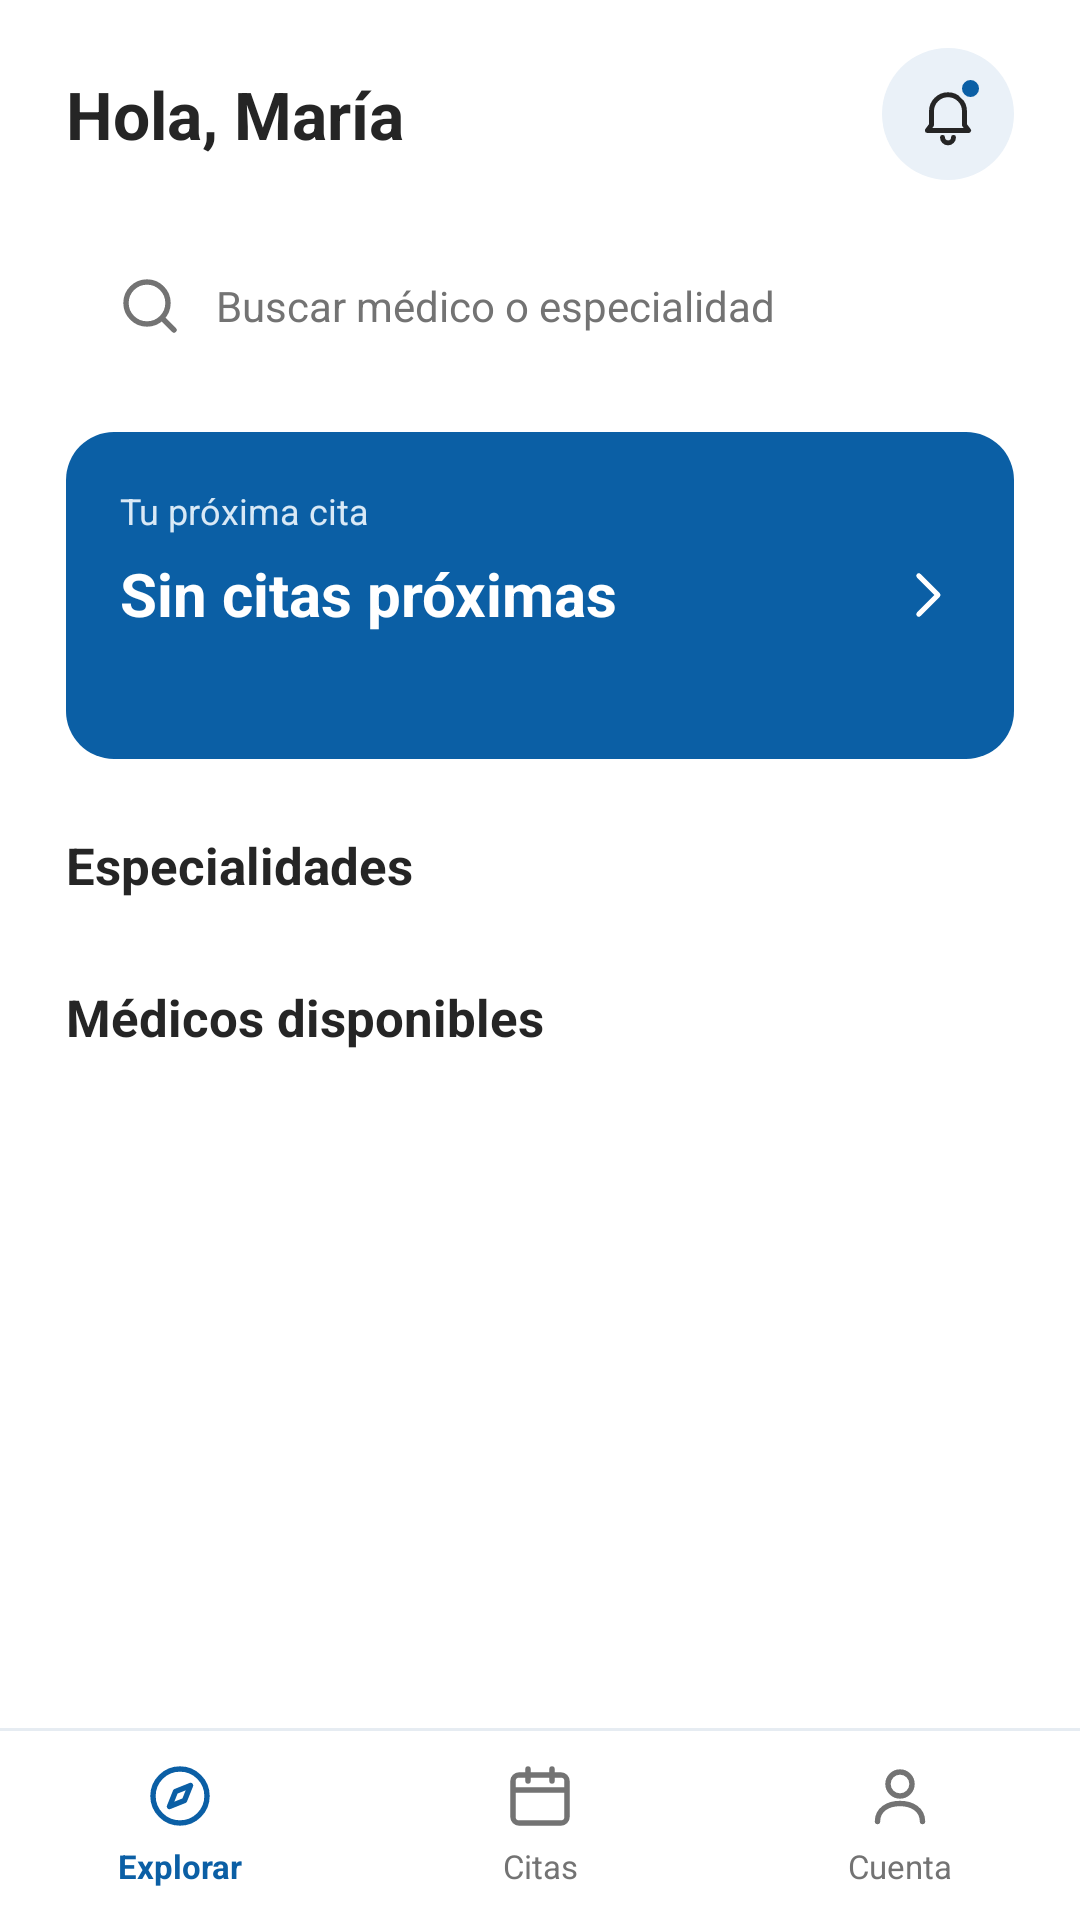

Icon bounding boxes for this 1080 × 1920 phone screenshot, format (x1, y1, x2, y2):
Notificaciones: (925, 81, 979, 146)
